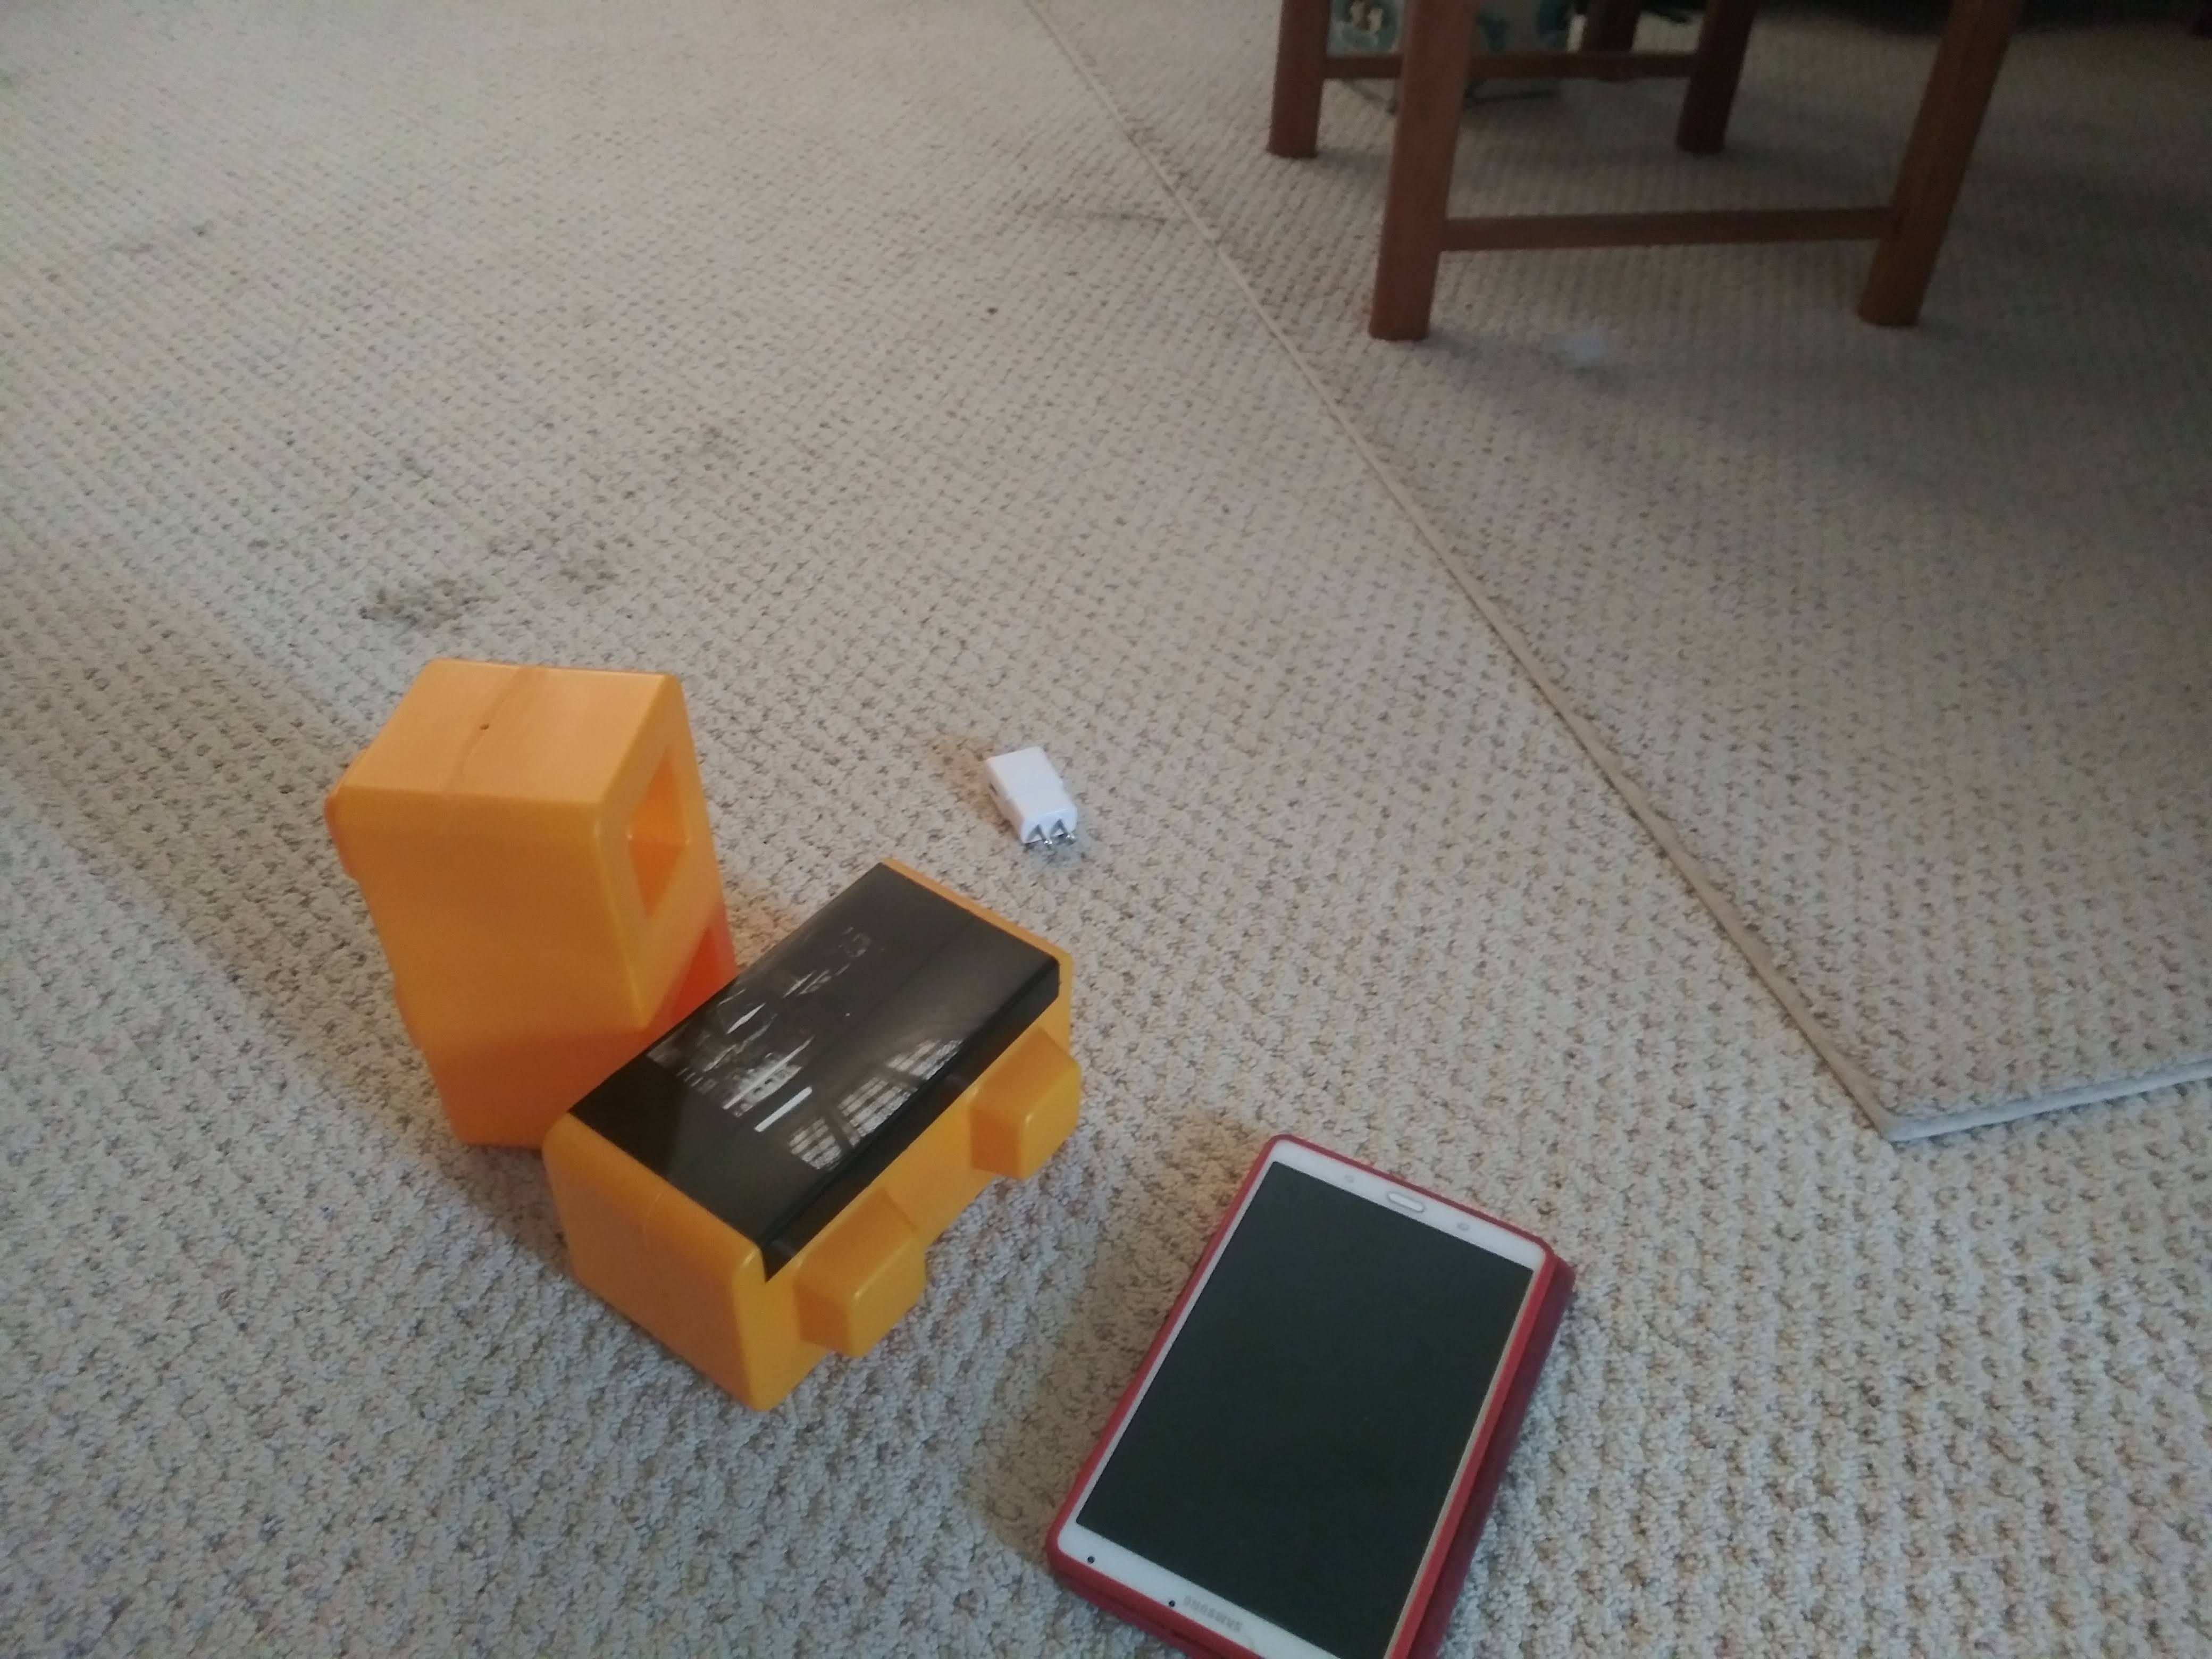skystone: (597, 924, 1078, 1351)
stone: (341, 666, 698, 1032)
